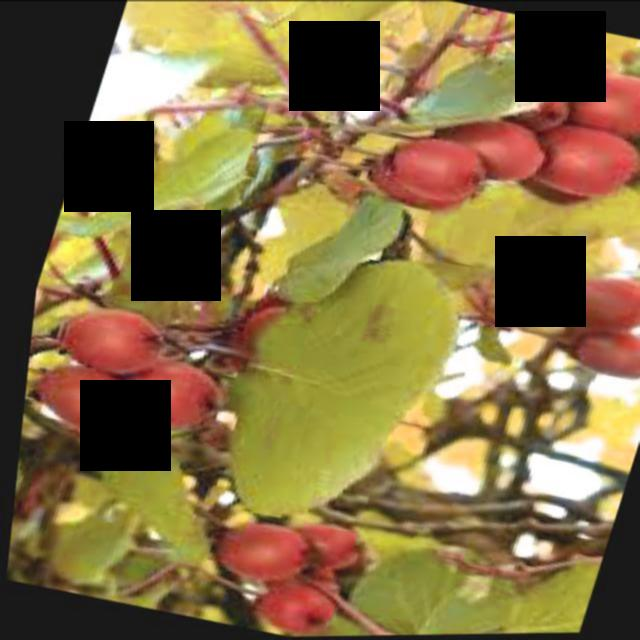kiwi: (496, 116, 640, 213), (406, 106, 549, 193), (100, 354, 233, 443), (522, 62, 640, 159), (21, 355, 145, 446), (362, 129, 492, 215), (45, 299, 172, 386), (198, 507, 325, 594), (545, 269, 640, 344), (239, 572, 345, 638), (545, 322, 640, 391), (271, 516, 365, 584)
